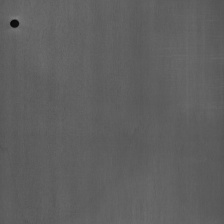punching_hole: (8, 15, 21, 31)
